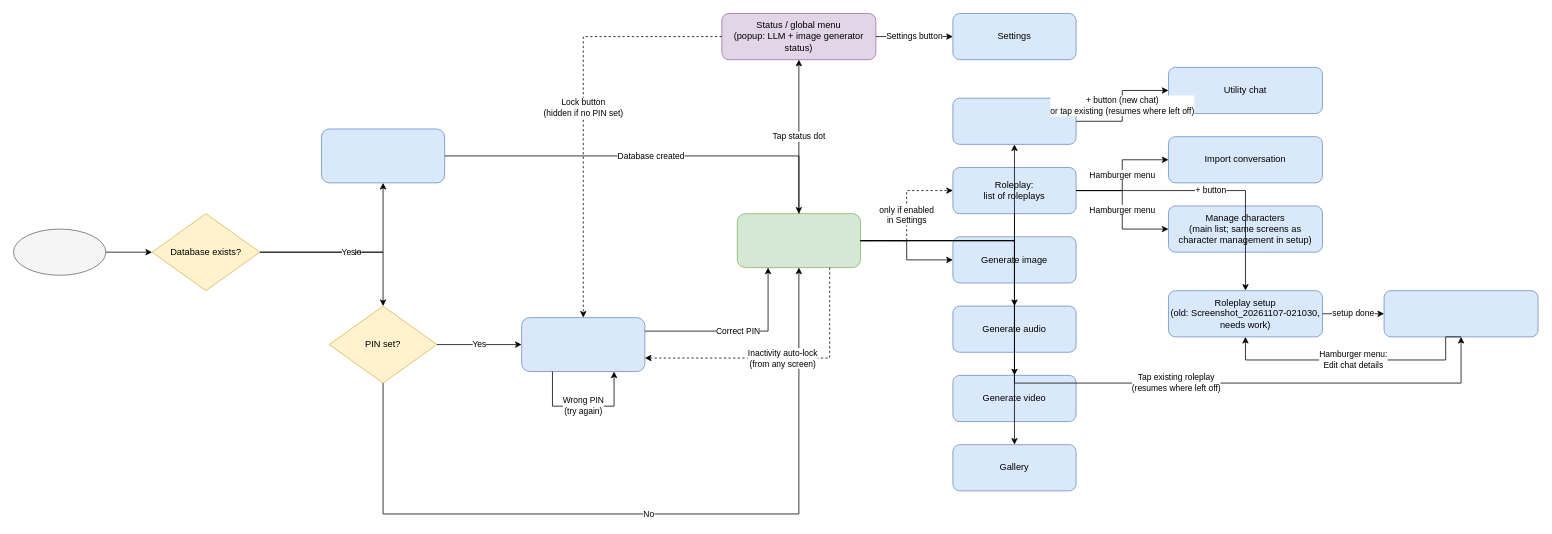
This 1552x534 diagram has some shape labels left out. The shapes that lost their labels are listed below. From the top down, each one's centre as x and y in pixels, then its label:
point (1014, 120): Chat: list of utility chats (long-press to delete)
point (383, 155): Create database (optional PIN)
point (59, 251): App start
point (798, 240): Home / navigation
point (1460, 313): Roleplay chat
point (583, 344): PIN entry
